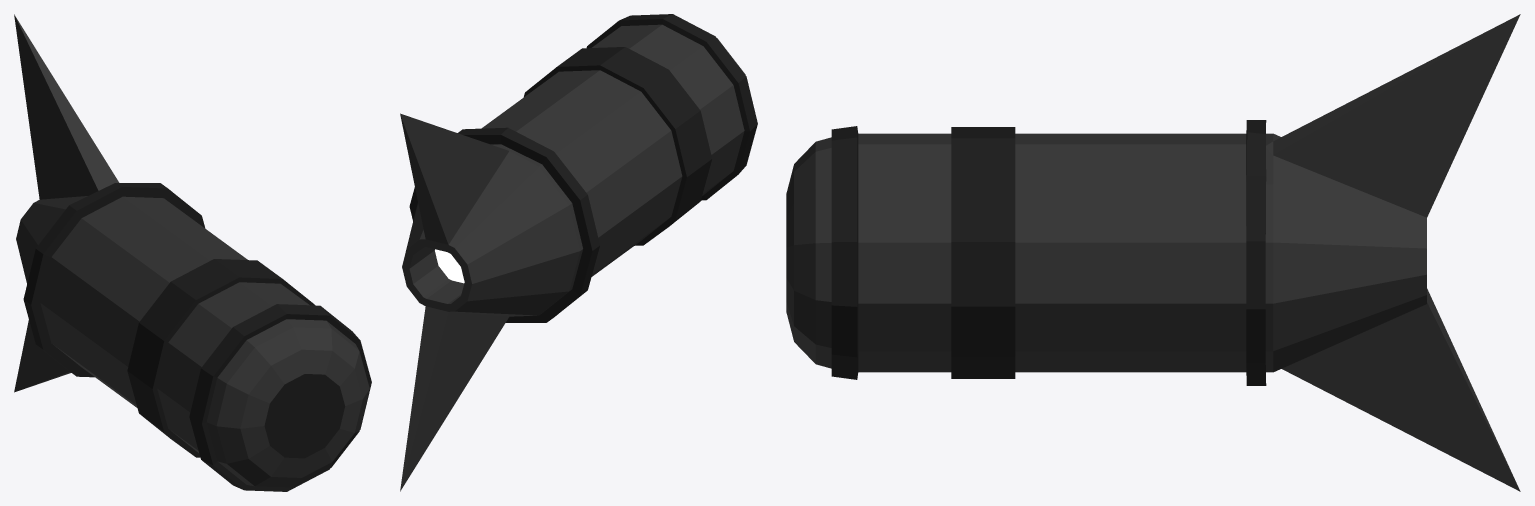
File: Bomb.fbx
The picture shows the model from 3 angles, left to right: view 1: azimuth 30°, elevation 25°; view 2: azimuth 150°, elevation 25°; view 3: azimuth 270°, elevation 25°; orthographic projection. The views are drawn at different scales.
Parts seen in each view (by area): view 1: Bomb; view 2: Bomb; view 3: Bomb.
Boxes of the visible parts, x1,y1,x2,y2 form: Bomb: (14, 14, 371, 491); Bomb: (400, 14, 757, 491); Bomb: (786, 14, 1520, 491).
Bounding box in the file's own units: 124 × 244 × 340.
